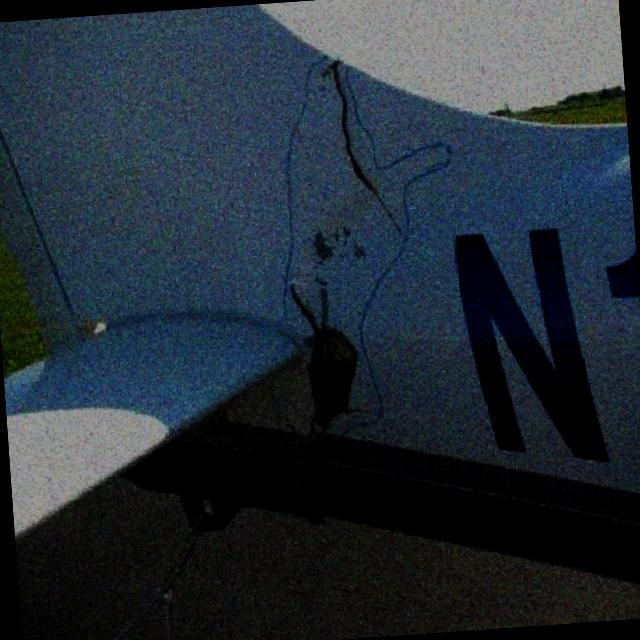crack: (336, 80, 404, 238)
